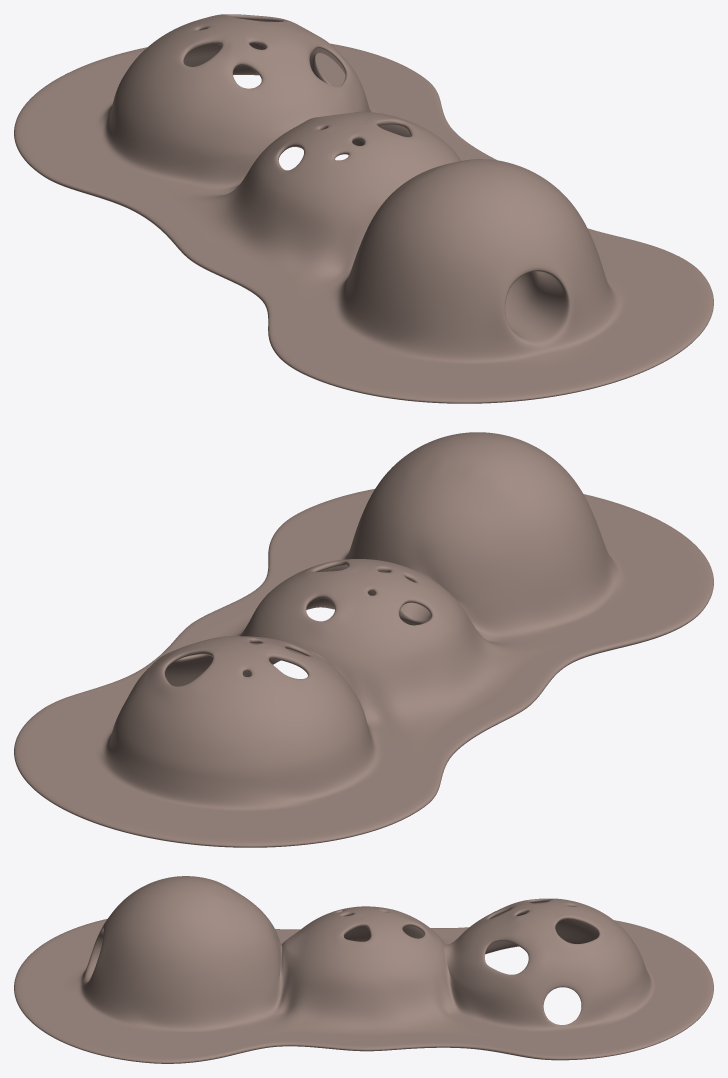
File: Cueva_Puertas.fbx
3 views of the same model, one above another, from view 1: azimuth 30°, elevation 25°; view 2: azimuth 150°, elevation 25°; view 3: azimuth 270°, elevation 25° (orthographic). The views are drawn at different scales.
Visible parts, largest first — view 1: Circle.001; view 2: Circle.001; view 3: Circle.001.
Boxes of the visible parts, x1=… form: Circle.001: x1=14, y1=14, x2=713, y2=403; Circle.001: x1=14, y1=432, x2=713, y2=847; Circle.001: x1=14, y1=876, x2=713, y2=1063.
Size of the model in its own units: 5668 by 2010 by 11145.
